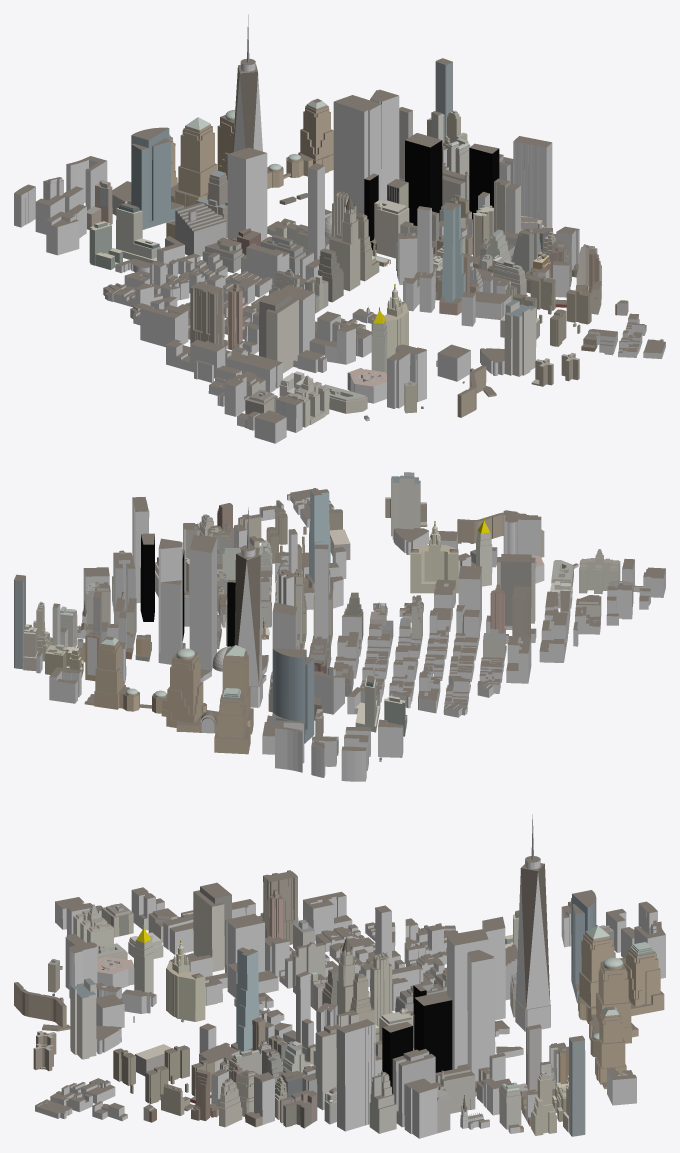
Rendered from test_city.fbx.
3 renders of one model, top to bottom at view 1: azimuth 30°, elevation 25°; view 2: azimuth 150°, elevation 25°; view 3: azimuth 270°, elevation 25°, orthographic. The views are drawn at different scales.
Visible parts, largest first — view 1: element.524; view 2: element.524; view 3: element.524.
Boxes of the visible parts, bbox=[...] form: element.524: bbox=[14, 14, 665, 443]; element.524: bbox=[14, 472, 665, 781]; element.524: bbox=[14, 814, 665, 1138].
Bounding box in the file's own units: 2888 × 1304 × 3581.
